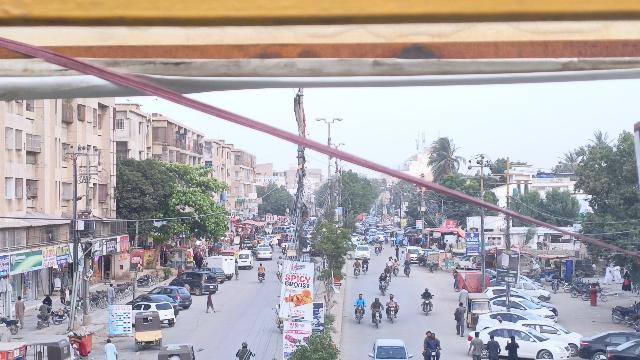Bike: (420, 296, 436, 318), (370, 308, 385, 329), (35, 314, 53, 330), (387, 305, 400, 325), (353, 306, 365, 326), (425, 346, 441, 360), (379, 281, 389, 295), (361, 262, 370, 276), (255, 273, 266, 284), (353, 266, 362, 279), (403, 265, 412, 278), (392, 265, 400, 277)
Car: (131, 302, 177, 327), (170, 271, 219, 294), (367, 338, 416, 360), (153, 284, 192, 310)
Person: (452, 301, 468, 337), (465, 331, 484, 360), (14, 295, 28, 327), (484, 333, 500, 360), (504, 333, 520, 360), (102, 337, 120, 360), (235, 341, 256, 360), (204, 289, 217, 316), (369, 294, 385, 311), (428, 332, 440, 349), (355, 292, 366, 306), (386, 291, 396, 306), (421, 286, 432, 299), (39, 300, 49, 314), (423, 330, 432, 345), (257, 262, 267, 275), (379, 271, 386, 283)
Rickshaw: (132, 310, 164, 348), (466, 291, 491, 330), (156, 342, 195, 360)
